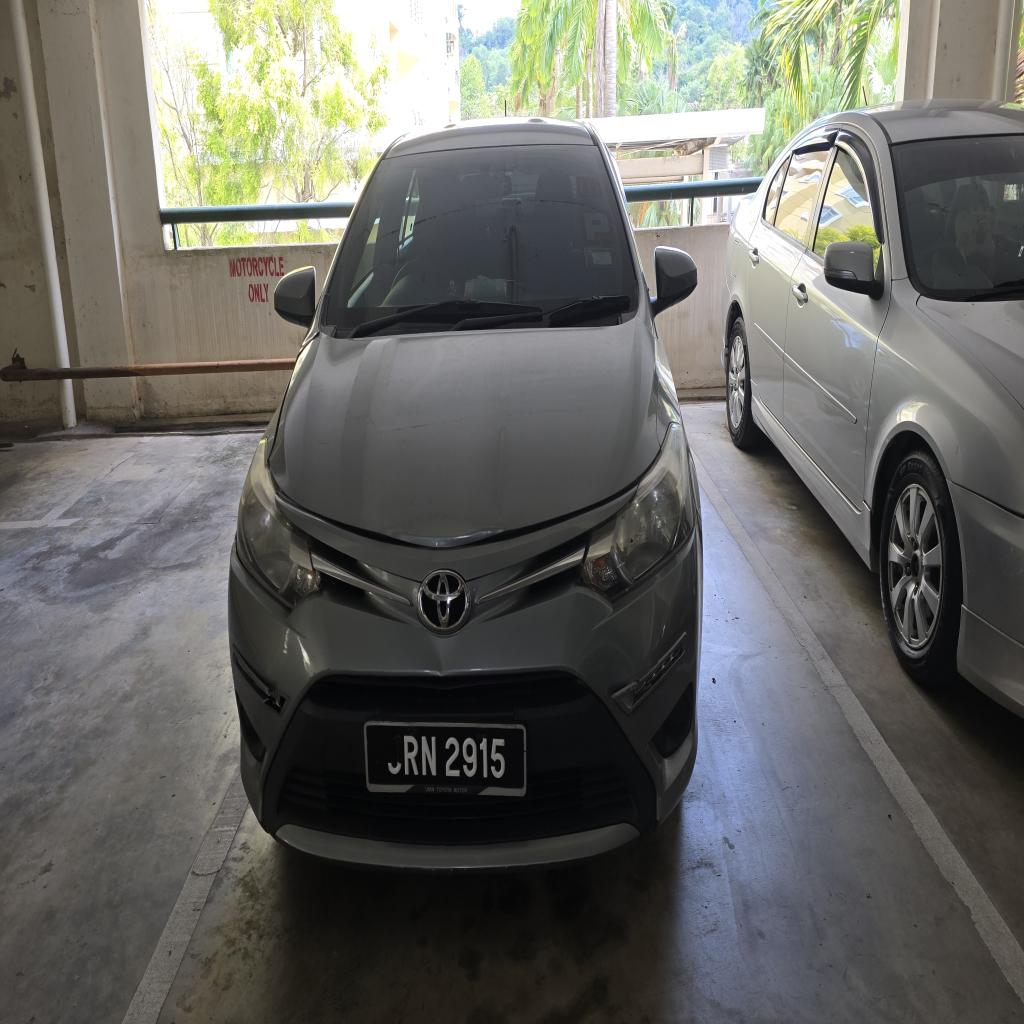car: (230, 120, 701, 868)
car plate: (365, 722, 526, 796)
